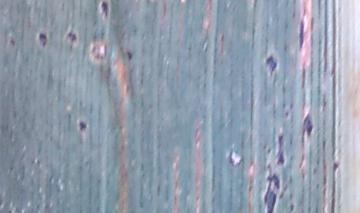tarspot: (262, 171, 283, 213), (275, 131, 288, 167), (298, 110, 314, 138), (262, 52, 280, 76), (34, 30, 51, 47), (99, 1, 112, 20), (75, 120, 90, 134), (65, 29, 79, 44), (124, 47, 135, 63), (332, 159, 340, 173)
